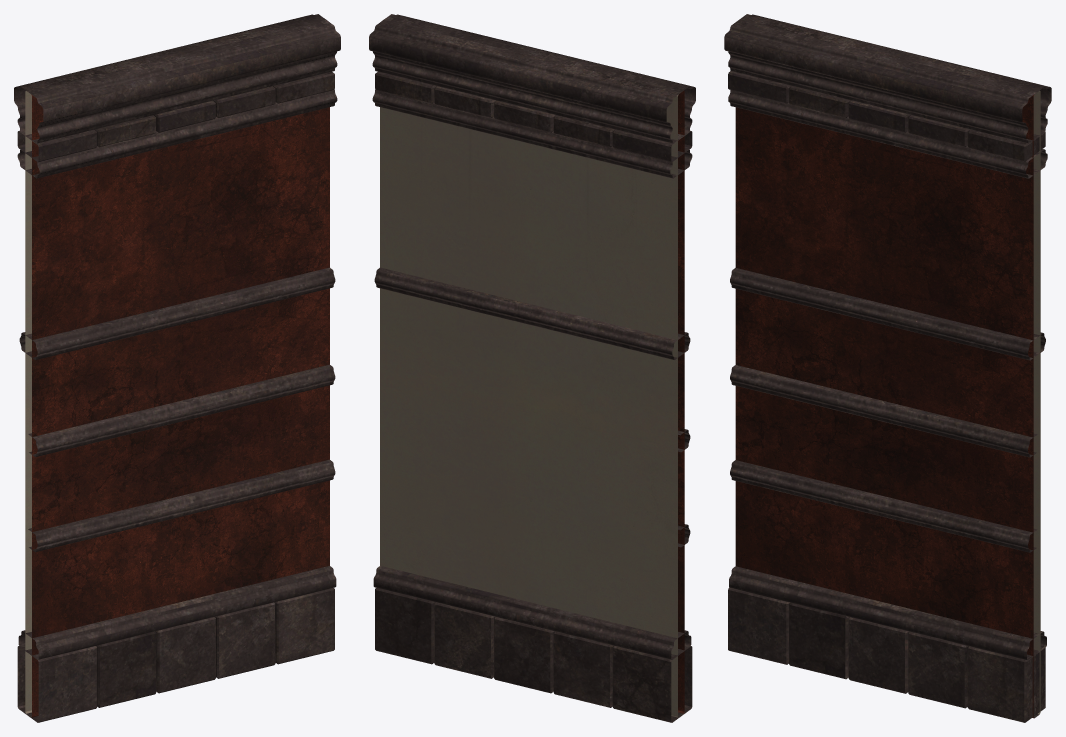
Rendered from SK2 WALL1.fbx.
The picture shows the model from 3 angles, left to right: view 1: azimuth 30°, elevation 25°; view 2: azimuth 150°, elevation 25°; view 3: azimuth 330°, elevation 25°; orthographic projection.
Parts seen in each view (by area): view 1: SK2 WALL1; view 2: SK2 WALL1; view 3: SK2 WALL1.
Boxes of the visible parts, x1,y1,x2,y2 form: SK2 WALL1: [14, 14, 340, 722]; SK2 WALL1: [369, 14, 695, 722]; SK2 WALL1: [724, 14, 1051, 722].
Bounding box in the file's own units: 200 × 400 × 33.96.
